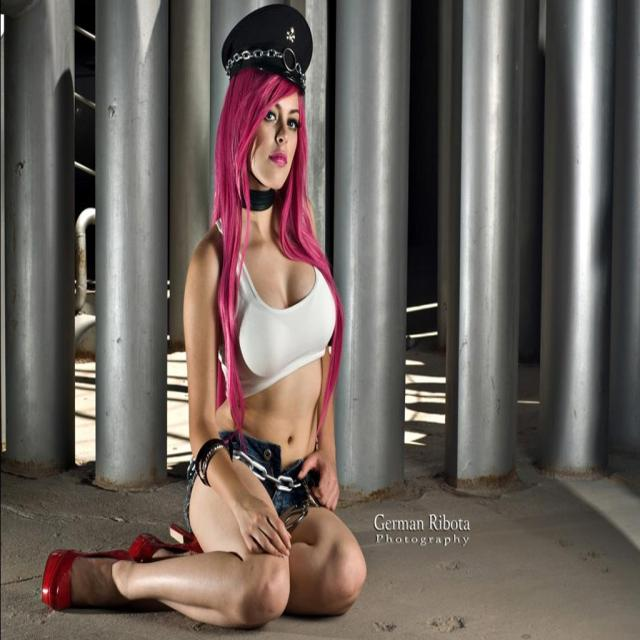Face: (236, 63, 314, 204)
